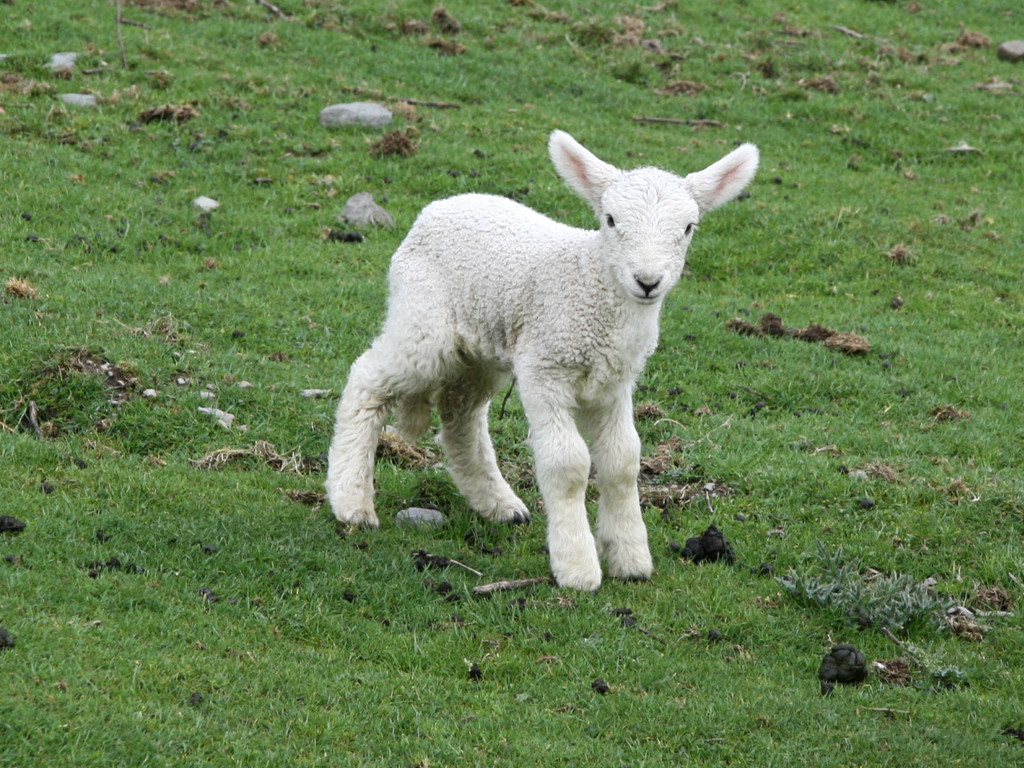sheep: (322, 128, 763, 590)
